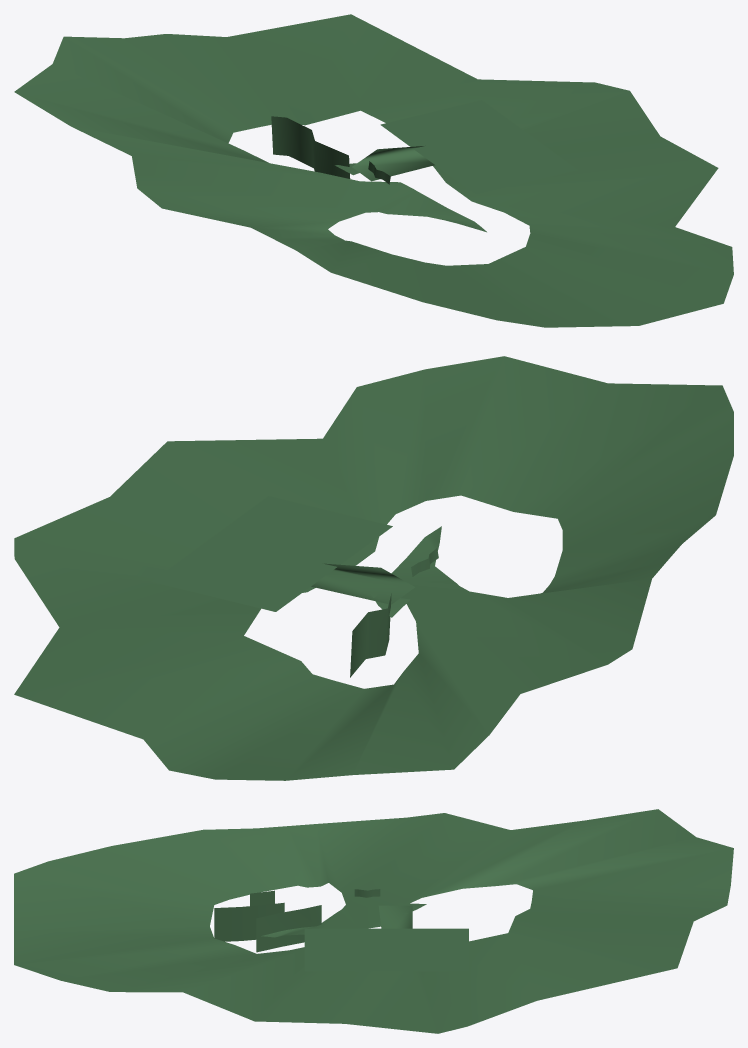
File: InvisibleWalls.glb
3 renders of one model, top to bottom at view 1: azimuth 30°, elevation 25°; view 2: azimuth 150°, elevation 25°; view 3: azimuth 270°, elevation 25°, orthographic. The views are drawn at different scales.
Visible parts, largest first — view 1: transparence.png__; view 2: transparence.png__; view 3: transparence.png__.
Boxes of the visible parts, bbox=[...] form: transparence.png__: bbox=[14, 14, 733, 327]; transparence.png__: bbox=[14, 356, 733, 780]; transparence.png__: bbox=[14, 809, 733, 1033].
Bounding box in the file's own units: 470 × 48.45 × 699.
Materials: 2 (1 with a texture image).
